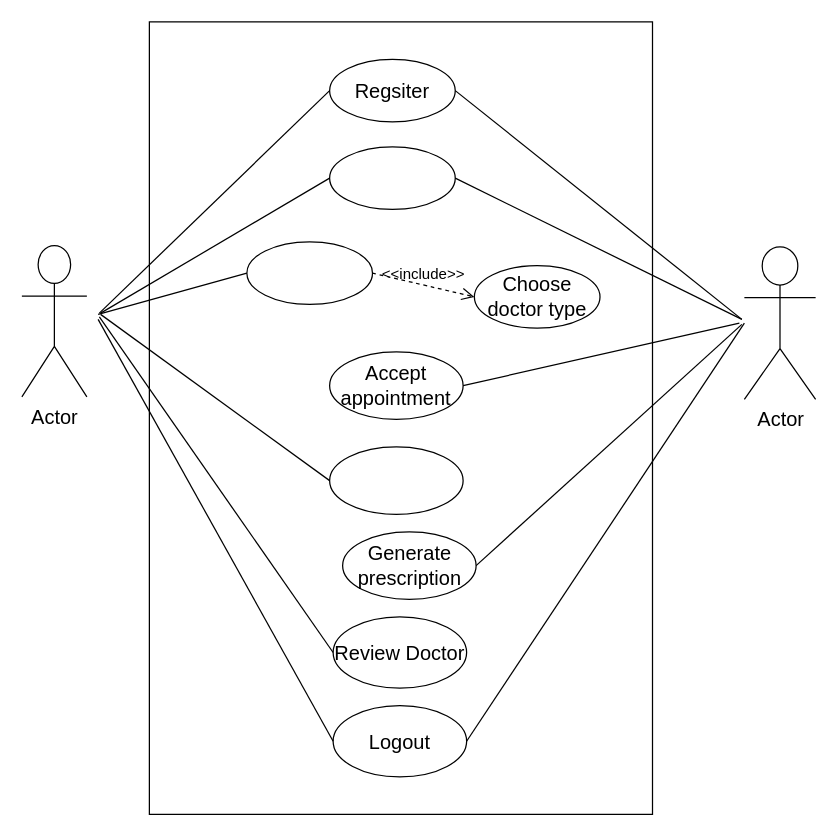
Some shapes in this 838 by 836 pixel diagram are drawn without their labels. The shapes that lost their labels are listed below. From the top down, each one's box as (x1, y1, x2, y2) in pixels, then its label:
(328, 146, 455, 209): Login
(246, 241, 372, 304): Book Appointment
(328, 446, 463, 514): Payment
